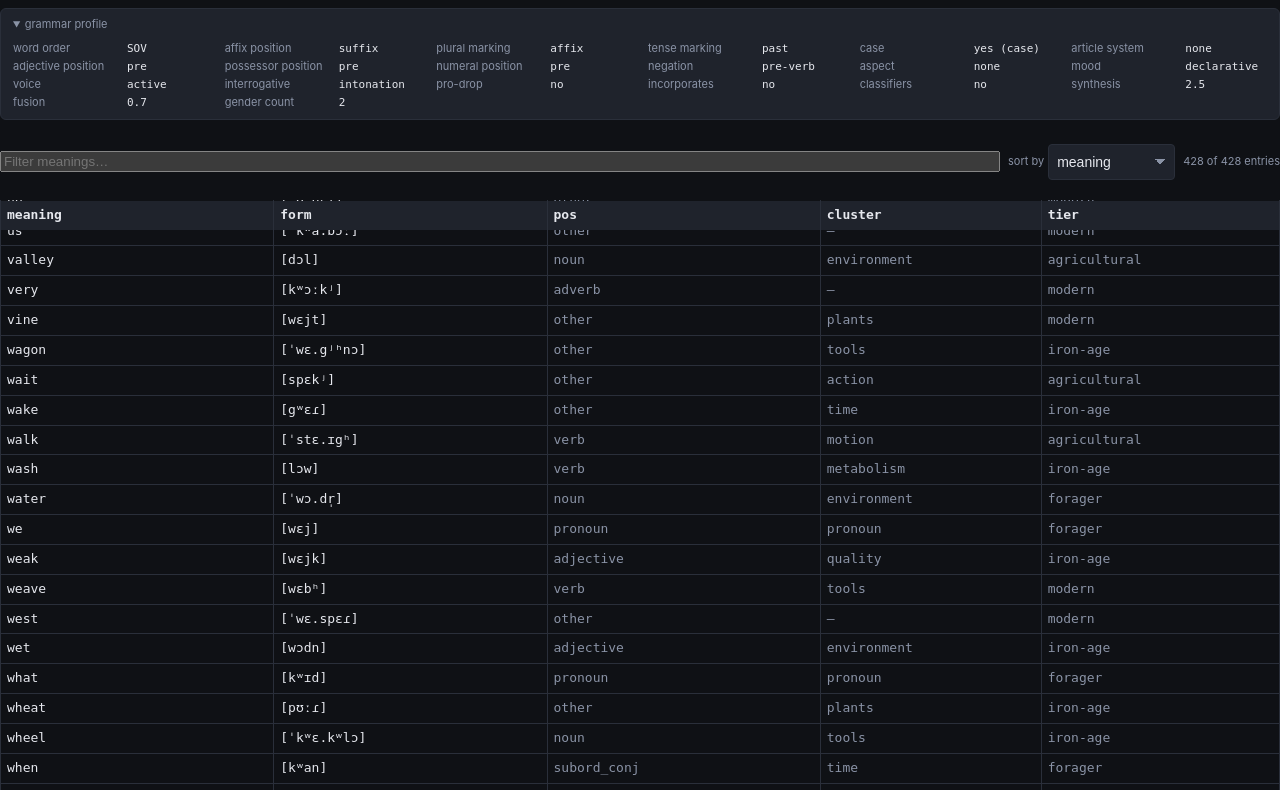
DictionaryView — semantic profile › reveals nearest words + axis profile when a word row is clicked
(page scrolled)
Expected: the text "semantic profile" is not shown
Click the text "water" at point(137, 500), box 0,485 -> 274,514
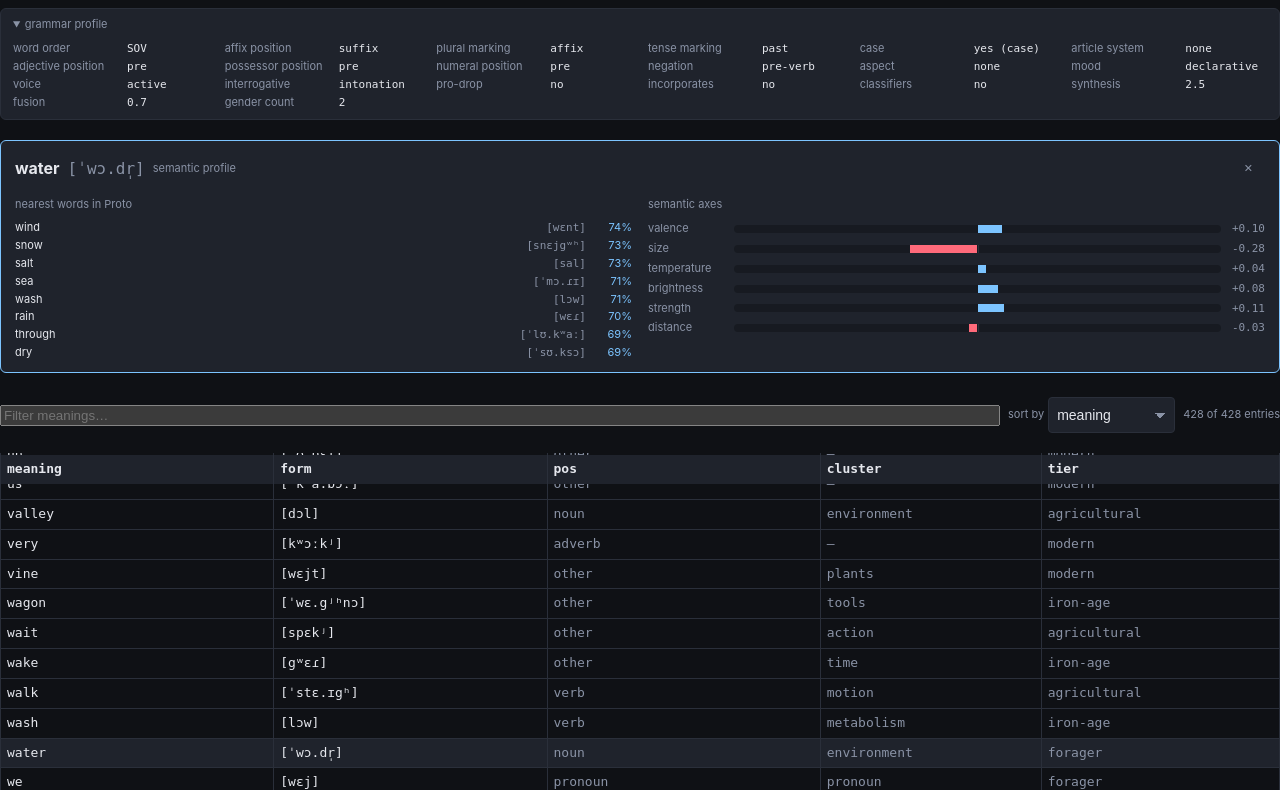
Expected: the text "semantic profile" is shown, 153,161 -> 236,177
Expected: the text "nearest words in Proto" is shown, 15,197 -> 132,211
Expected: the text "semantic axes" is shown, 648,197 -> 722,211
